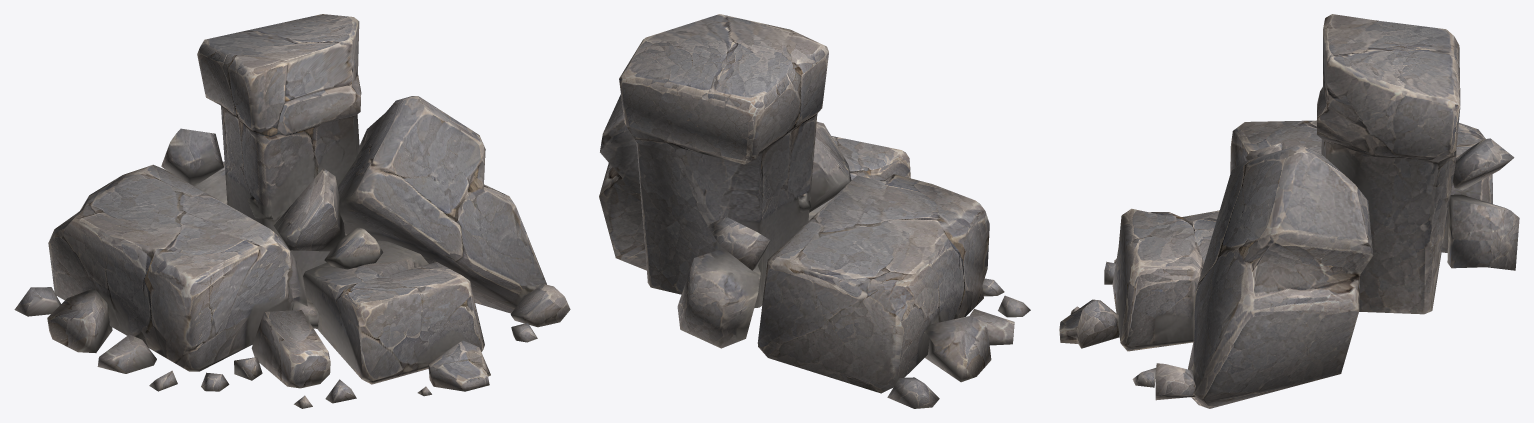
Rendered from rock_pile.glb.
The picture shows the model from 3 angles, left to right: view 1: azimuth 30°, elevation 25°; view 2: azimuth 150°, elevation 25°; view 3: azimuth 270°, elevation 25°; orthographic projection. The views are drawn at different scales.
Visible parts, largest first — view 1: tripo_node_614216d1-7dc5-4d07-8d5a-73644ca52b18; view 2: tripo_node_614216d1-7dc5-4d07-8d5a-73644ca52b18; view 3: tripo_node_614216d1-7dc5-4d07-8d5a-73644ca52b18.
Boxes of the visible parts, x1,y1,x2,y2 form: tripo_node_614216d1-7dc5-4d07-8d5a-73644ca52b18: [14, 14, 570, 408]; tripo_node_614216d1-7dc5-4d07-8d5a-73644ca52b18: [599, 14, 1030, 408]; tripo_node_614216d1-7dc5-4d07-8d5a-73644ca52b18: [1059, 14, 1519, 408].
Bounding box in the file's own units: 0.998 × 0.6074 × 0.8965.
Materials: 1 (1 with a texture image).
